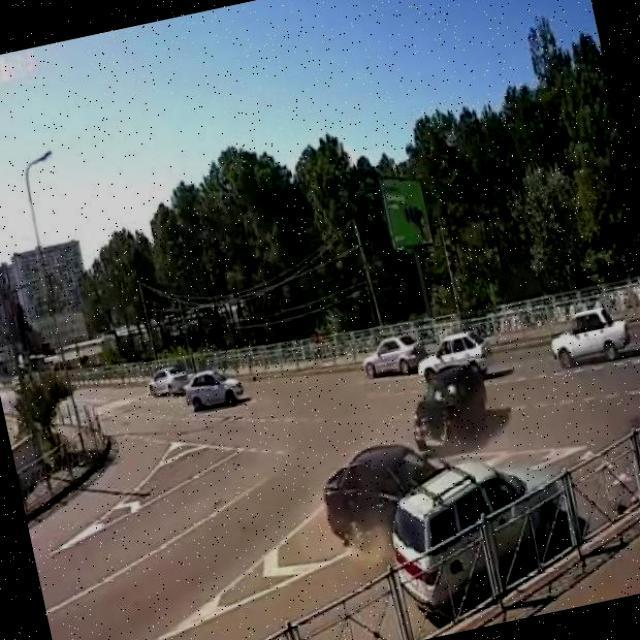accident: (342, 424, 530, 584)
